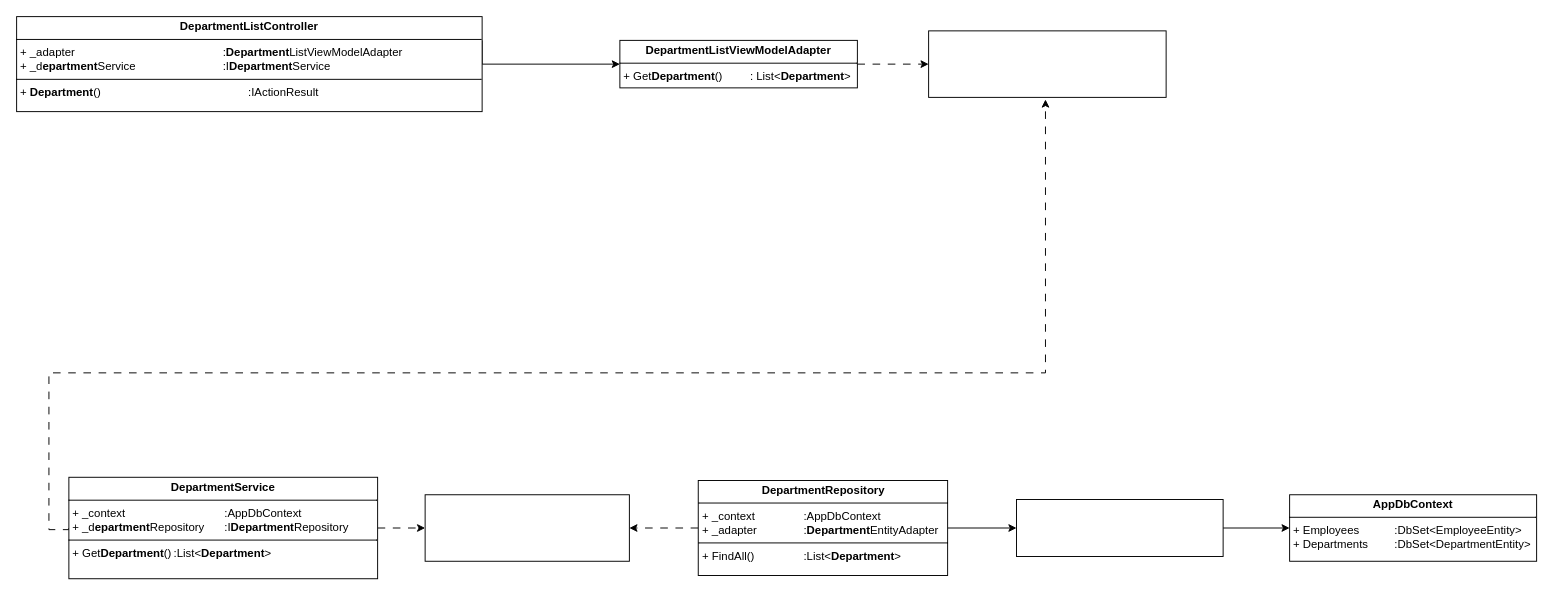
Some shapes in this 1553 by 596 pixel diagram are drawn without their labels. The box of each missing label's shape, as (x1, y1, x2, y2) in pixels:
<<Interface>> I Department Repository + FindAll() :List< Department >: (424, 494, 629, 561)
<<Interface>> I Department Service + FindAll() :List< Department >: (928, 30, 1166, 97)
EmployeeEntityAdapter + ReStore() : Department Entity: (1016, 499, 1223, 557)
